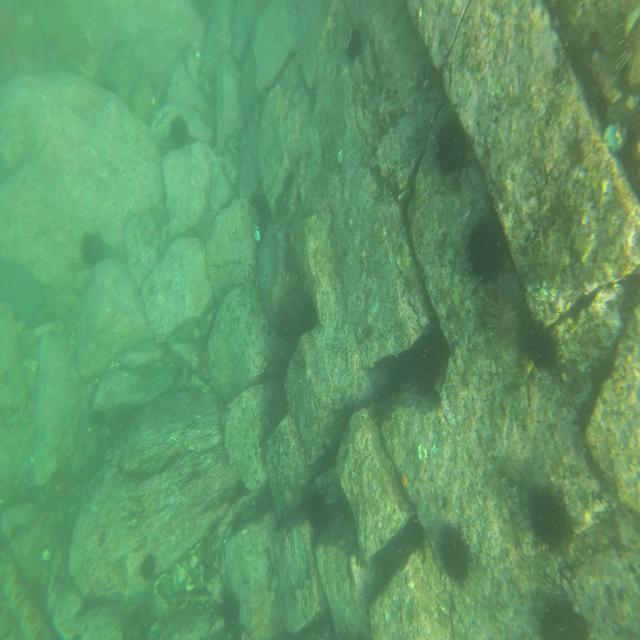echinus: (524, 475, 577, 560), (486, 284, 540, 360), (462, 207, 511, 287), (432, 514, 476, 595), (606, 0, 640, 91), (522, 316, 562, 376), (539, 599, 591, 640), (434, 118, 471, 174), (414, 347, 443, 401), (77, 227, 107, 270), (218, 588, 244, 633), (307, 489, 332, 532), (166, 116, 193, 152), (137, 550, 159, 585), (345, 27, 365, 62)
